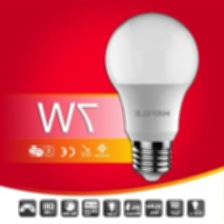light_bulb: (101, 7, 204, 186)
